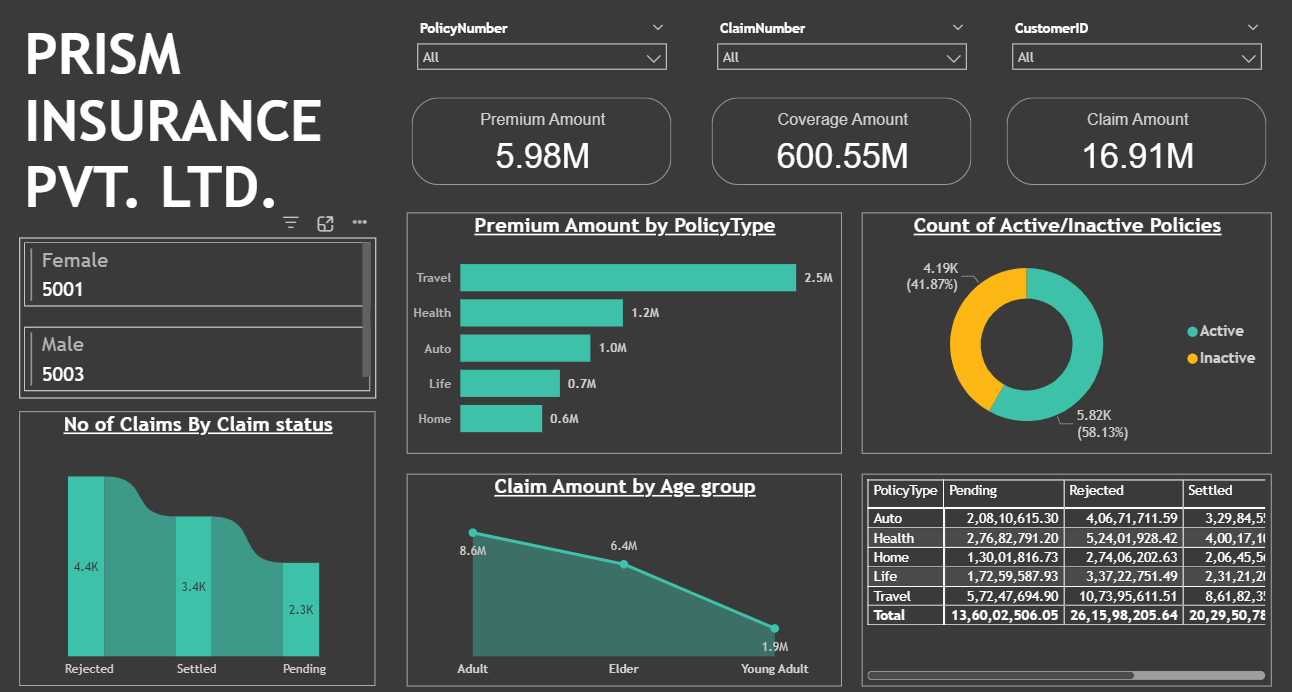

The dashboard page shown, as its layout file describes it:
{"tool":"powerbi","page":{"name":"Page 1","canvas":[1280,720],"ordinal":0},"visuals":[{"type":"slicer","fields":{"Values":["InsuranceData.PolicyNumber"]},"box":[400.7,19.2,264.8,75.5],"z":0},{"type":"slicer","fields":{"Values":["InsuranceData.CustomerID"]},"box":[985.3,19.2,264.8,75.5],"z":1},{"type":"slicer","fields":{"Values":["InsuranceData.ClaimNumber"]},"box":[695.7,19.2,264.8,75.5],"z":2},{"type":"textbox","box":[20.6,19.2,349.9,207.2],"z":3},{"type":"cardVisual","fields":{"Data":["Sum(InsuranceData.PremiumAmount)"]},"box":[401.2,95.7,265,96.9],"z":4},{"type":"cardVisual","fields":{"Data":["Sum(InsuranceData.CoverageAmount)"]},"box":[695.7,95.7,265,96.9],"z":5},{"type":"cardVisual","fields":{"Data":["Sum(InsuranceData.ClaimAmount)"]},"box":[985.3,95.7,265,96.9],"z":6},{"type":"multiRowCard","fields":{"Values":["InsuranceData.Gender","CountNonNull(InsuranceData.Gender)"]},"box":[20.9,238,349.7,158.3],"z":7},{"type":"ribbonChart","title":"No of Claims By Claim status","fields":{"Category":["InsuranceData.ClaimStatus"],"Y":["CountNonNull(InsuranceData.ClaimStatus)"]},"box":[20.9,408.6,349.7,269.9],"z":8},{"type":"barChart","title":"Premium Amount by PolicyType","fields":{"Category":["InsuranceData.PolicyType"],"Y":["Sum(InsuranceData.PremiumAmount)"]},"box":[401.2,213.5,427,236.8],"z":9},{"type":"lineChart","title":"Claim Amount by Age group","fields":{"Category":["InsuranceData.Age grou[p"],"Y":["Sum(InsuranceData.ClaimAmount)"]},"box":[401.2,469.9,427,208.6],"z":10},{"type":"donutChart","title":"Count of Active/Inactive Policies","fields":{"Category":["InsuranceData.Active/Inactive"],"Y":["CountNonNull(InsuranceData.Active/Inactive)"]},"box":[847.9,213.5,402.5,236.8],"z":11},{"type":"pivotTable","fields":{"Values":["Sum(InsuranceData.CoverageAmount)"],"Rows":["InsuranceData.PolicyType"],"Columns":["InsuranceData.ClaimStatus"]},"box":[847.9,469.9,402.5,208.6],"z":12}]}

Visuals, with their boxes on the page's 1280x720 design canvas (x1, y1, x2, y2). These are canvas units, not pixel positions in the 1292x692 screenshot, which may show the page scaled, cropped or inside an application window:
slicer - InsuranceData.PolicyNumber: rect(401, 19, 666, 95)
slicer - InsuranceData.CustomerID: rect(985, 19, 1250, 95)
slicer - InsuranceData.ClaimNumber: rect(696, 19, 960, 95)
textbox: rect(21, 19, 370, 226)
cardVisual - Sum(InsuranceData.PremiumAmount): rect(401, 96, 666, 193)
cardVisual - Sum(InsuranceData.CoverageAmount): rect(696, 96, 961, 193)
cardVisual - Sum(InsuranceData.ClaimAmount): rect(985, 96, 1250, 193)
multiRowCard - InsuranceData.Gender x CountNonNull(InsuranceData.Gender): rect(21, 238, 371, 396)
"No of Claims By Claim status" ribbonChart: rect(21, 409, 371, 678)
"Premium Amount by PolicyType" barChart: rect(401, 214, 828, 450)
"Claim Amount by Age group" lineChart: rect(401, 470, 828, 678)
"Count of Active/Inactive Policies" donutChart: rect(848, 214, 1250, 450)
pivotTable - Sum(InsuranceData.CoverageAmount) x InsuranceData.PolicyType: rect(848, 470, 1250, 678)
